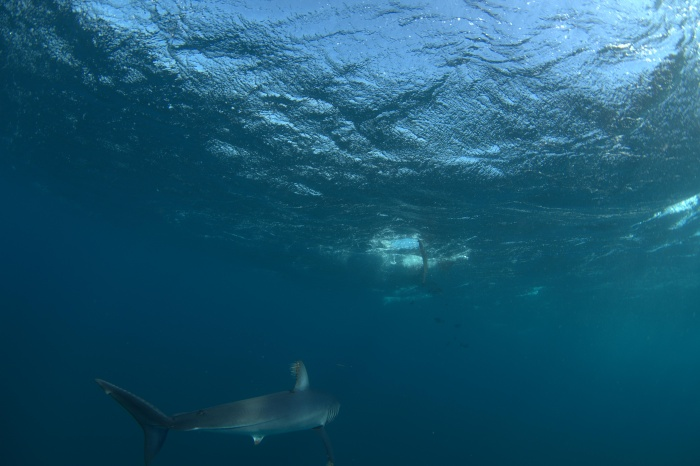Mako: (88, 361, 359, 464)
